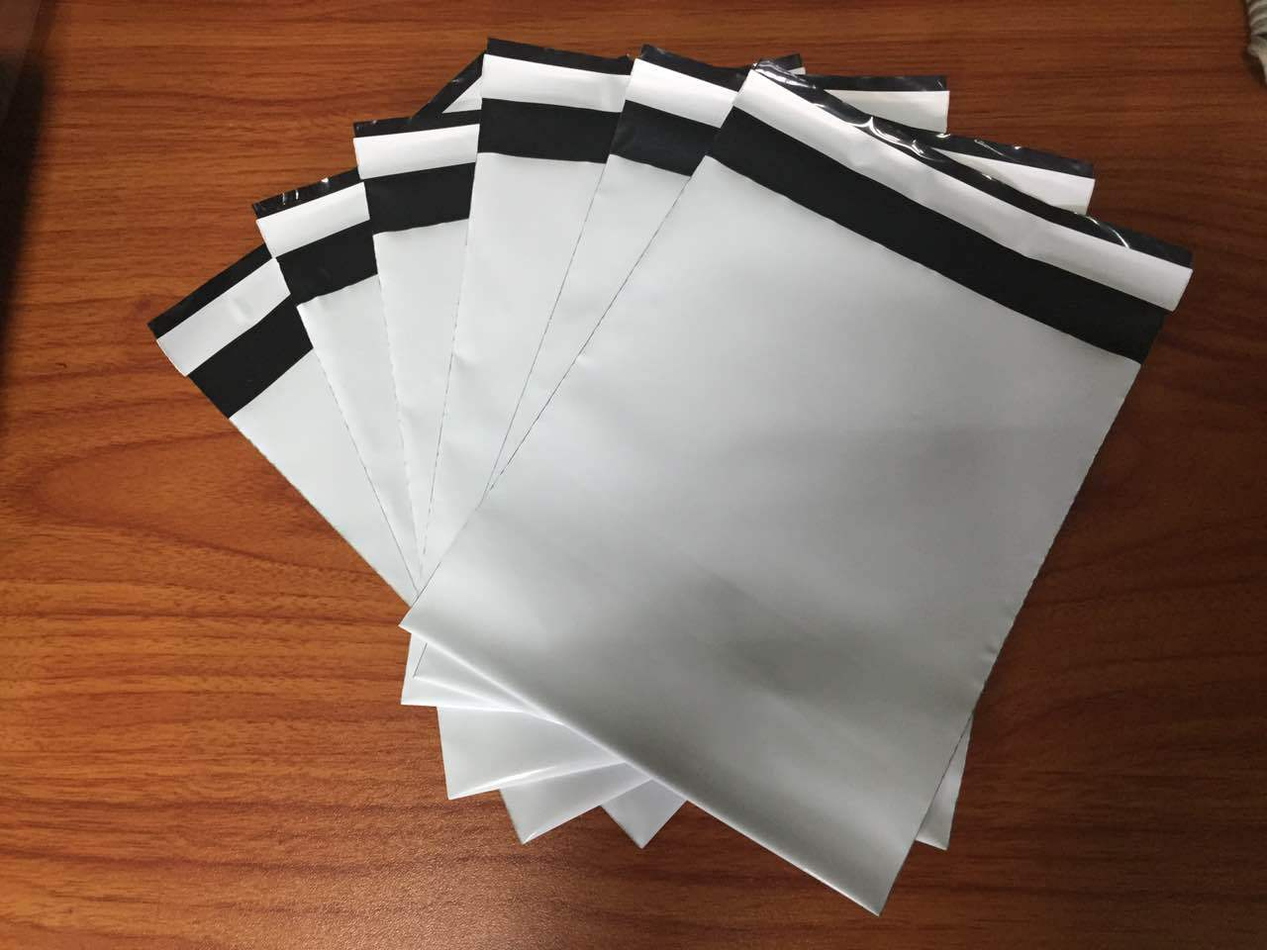塑料袋: (24, 0, 1220, 891)
